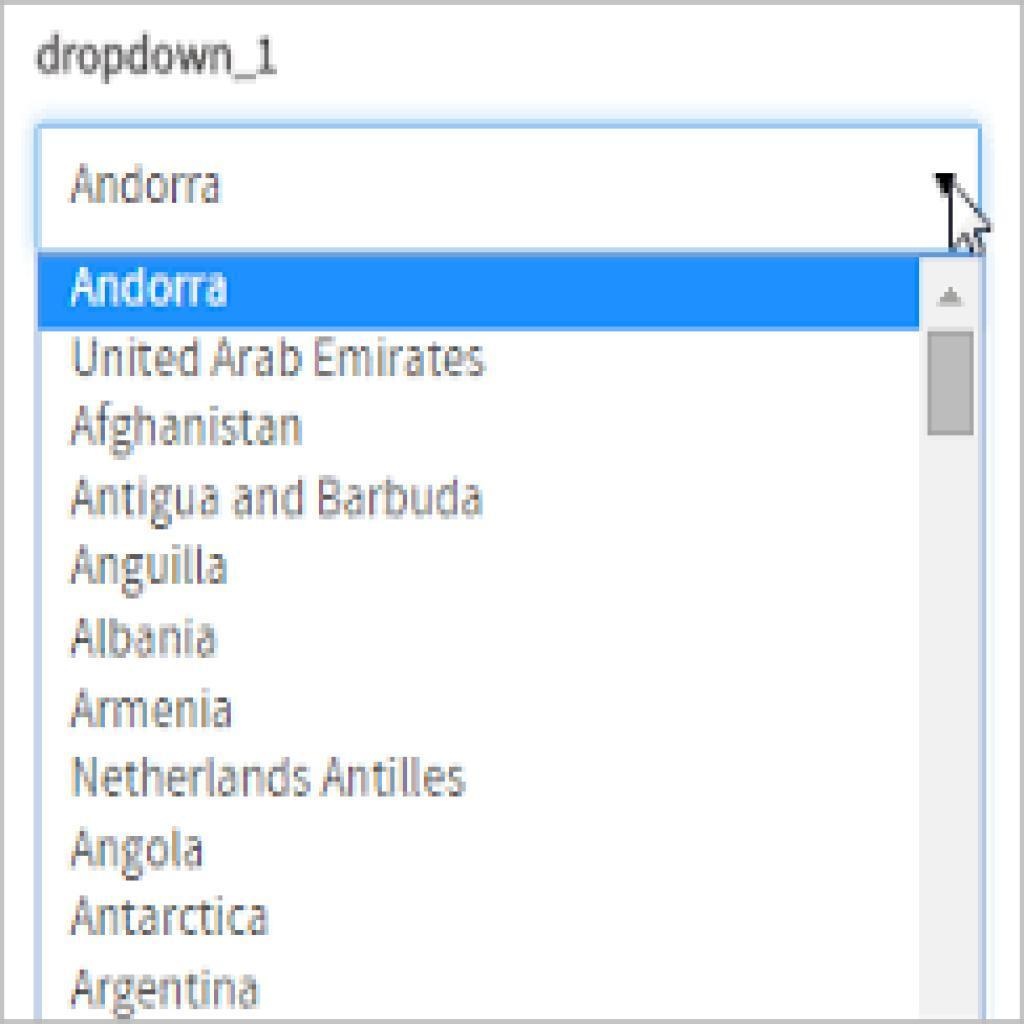dropdown: (38, 125, 984, 254)
